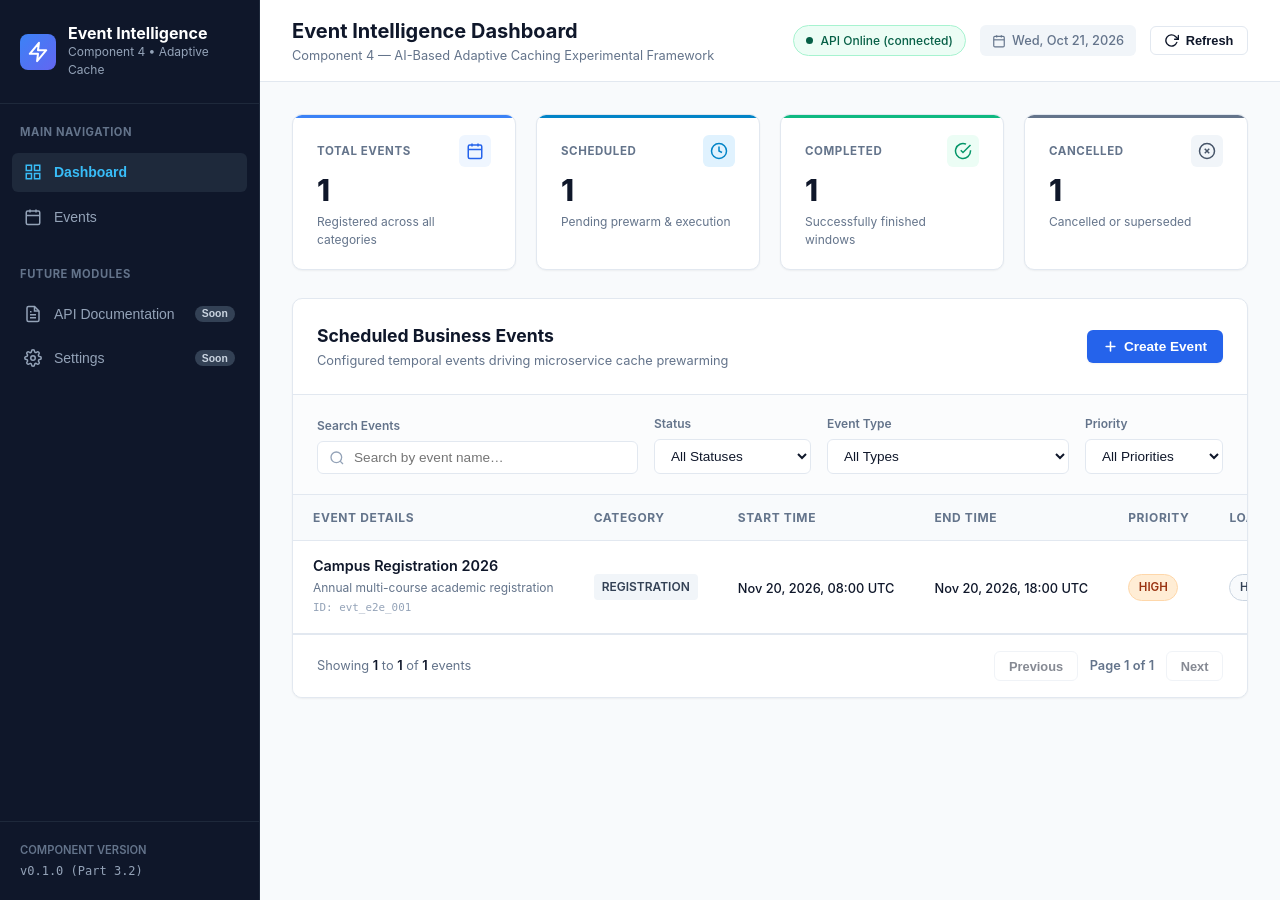
Test: Part 3.5: Frontend End-to-End Workflow & Integration Tests › Workflow: Inspection -> Delete Event -> Dismiss -> Re-open -> Confirm -> Removed from Table
// Open Details Modal
Click the button "Campus Registration 2026" at (433, 567), box 313,557 -> 554,576
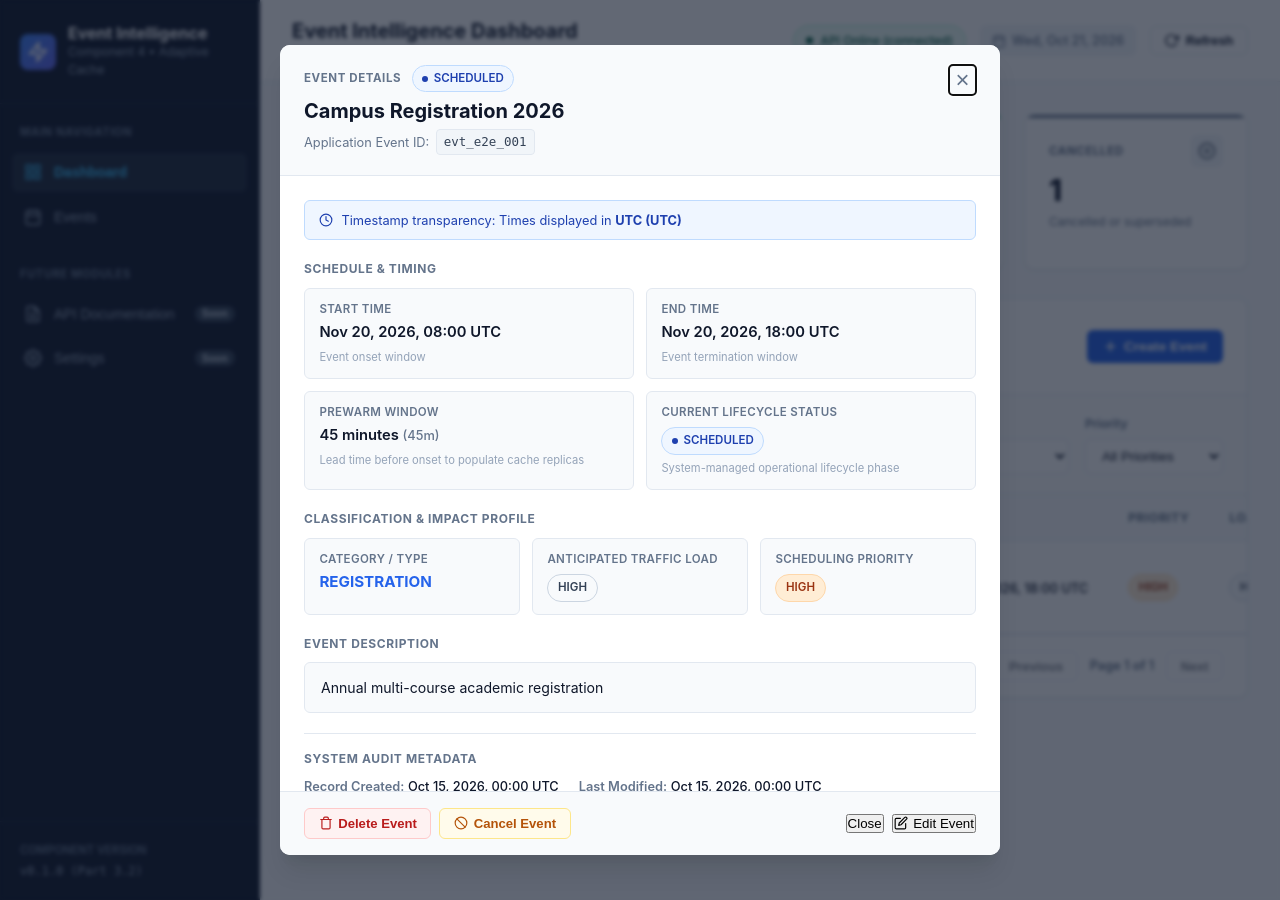
Expected: the dialog "Campus Registration 2026" is shown, 280,45 -> 1000,855
Click the button with aria-label "Delete event Campus Registration 2026" at (368, 823), box 304,808 -> 432,839
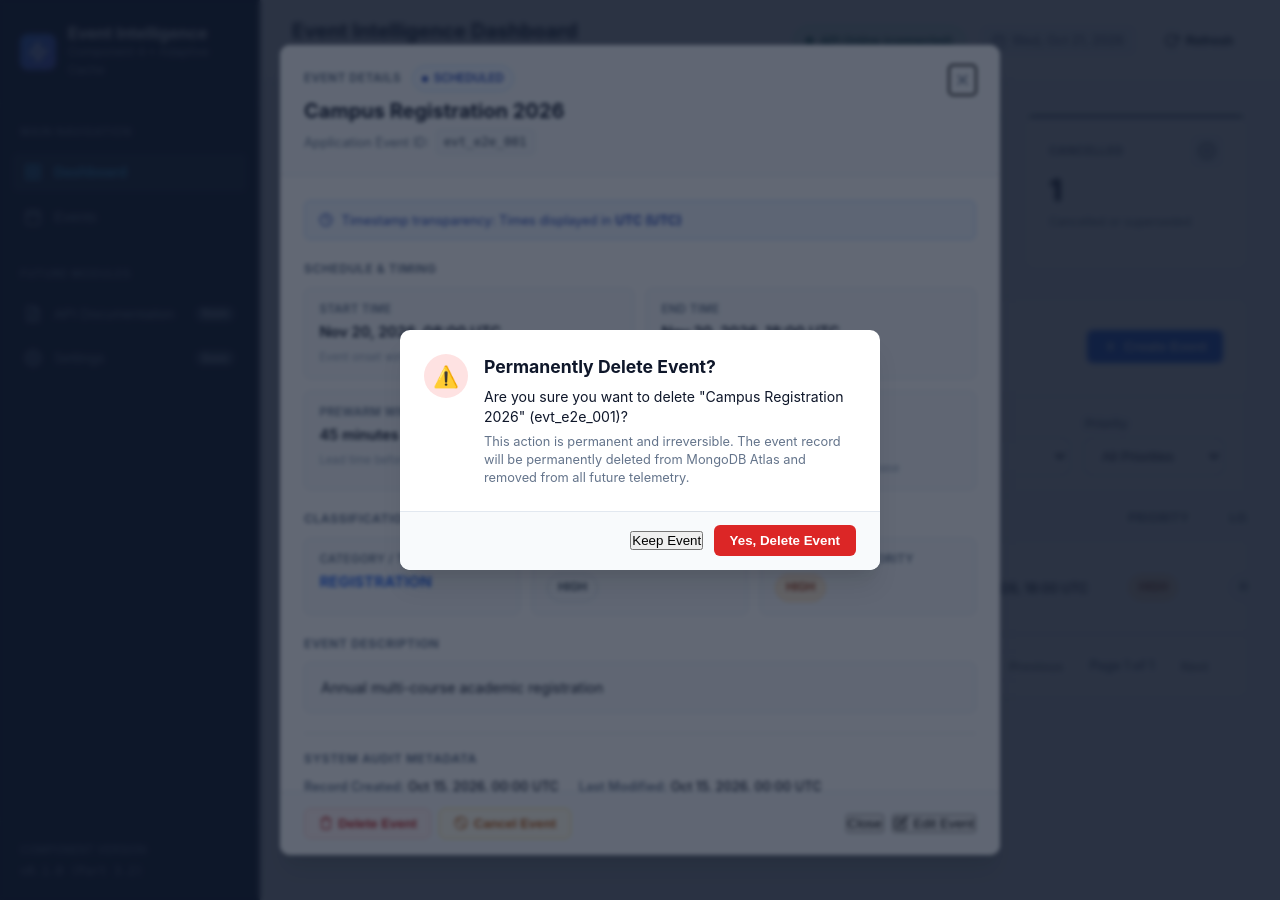
Expected: the heading "Permanently Delete Event?" is shown, 484,356 -> 716,377
// Dismiss deletion
Click the button "Keep Event" at (667, 541), box 630,531 -> 703,550
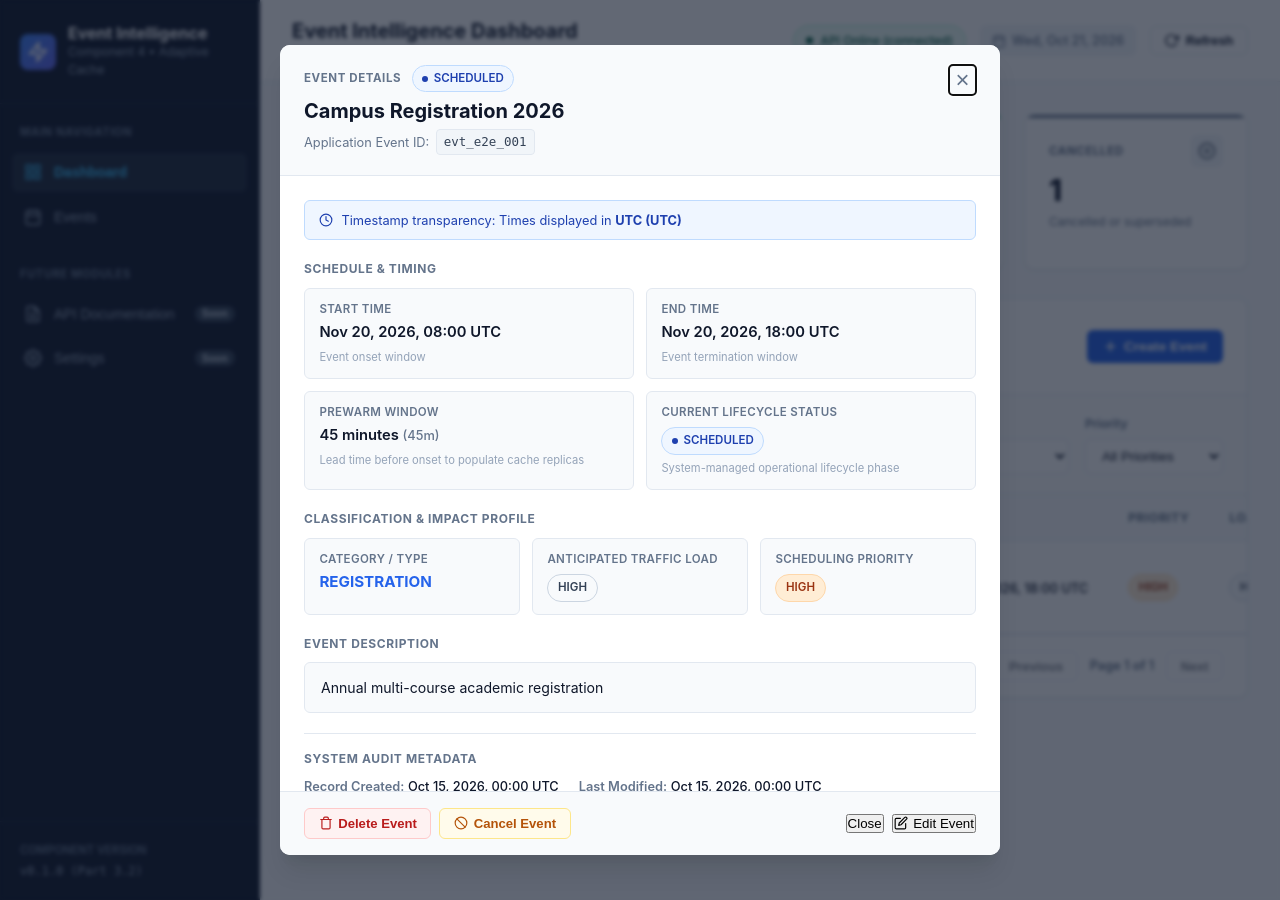
Expected: the heading "Campus Registration 2026" is shown, 304,98 -> 564,124
Expected: the heading "Permanently Delete Event?" is gone
// Click Delete Event again
Click the button with aria-label "Delete event Campus Registration 2026" at (368, 823), box 304,808 -> 432,839
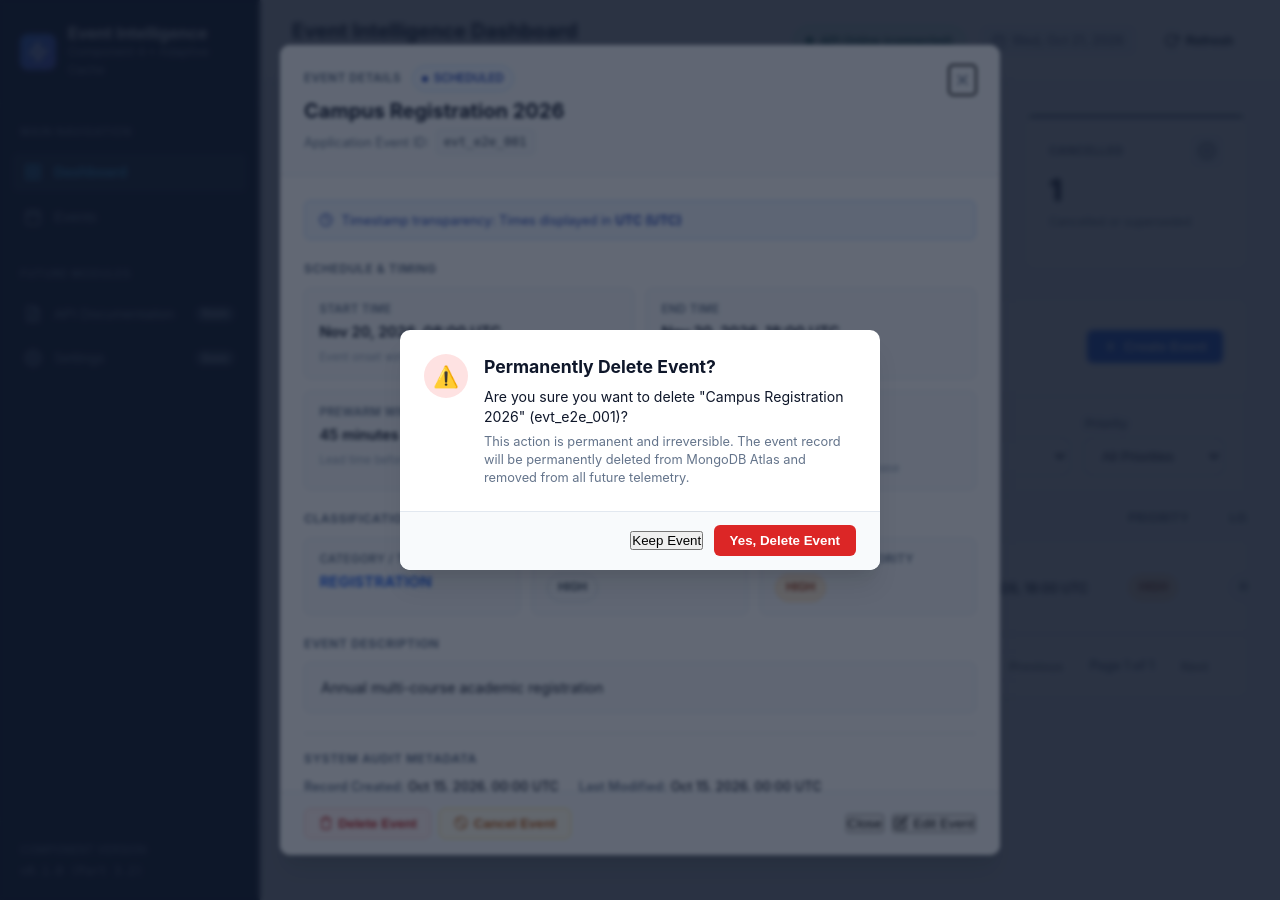
Expected: the heading "Permanently Delete Event?" is shown, 484,356 -> 716,377
// Confirm deletion
Click the button "Yes, Delete Event" at (785, 541), box 714,525 -> 856,556
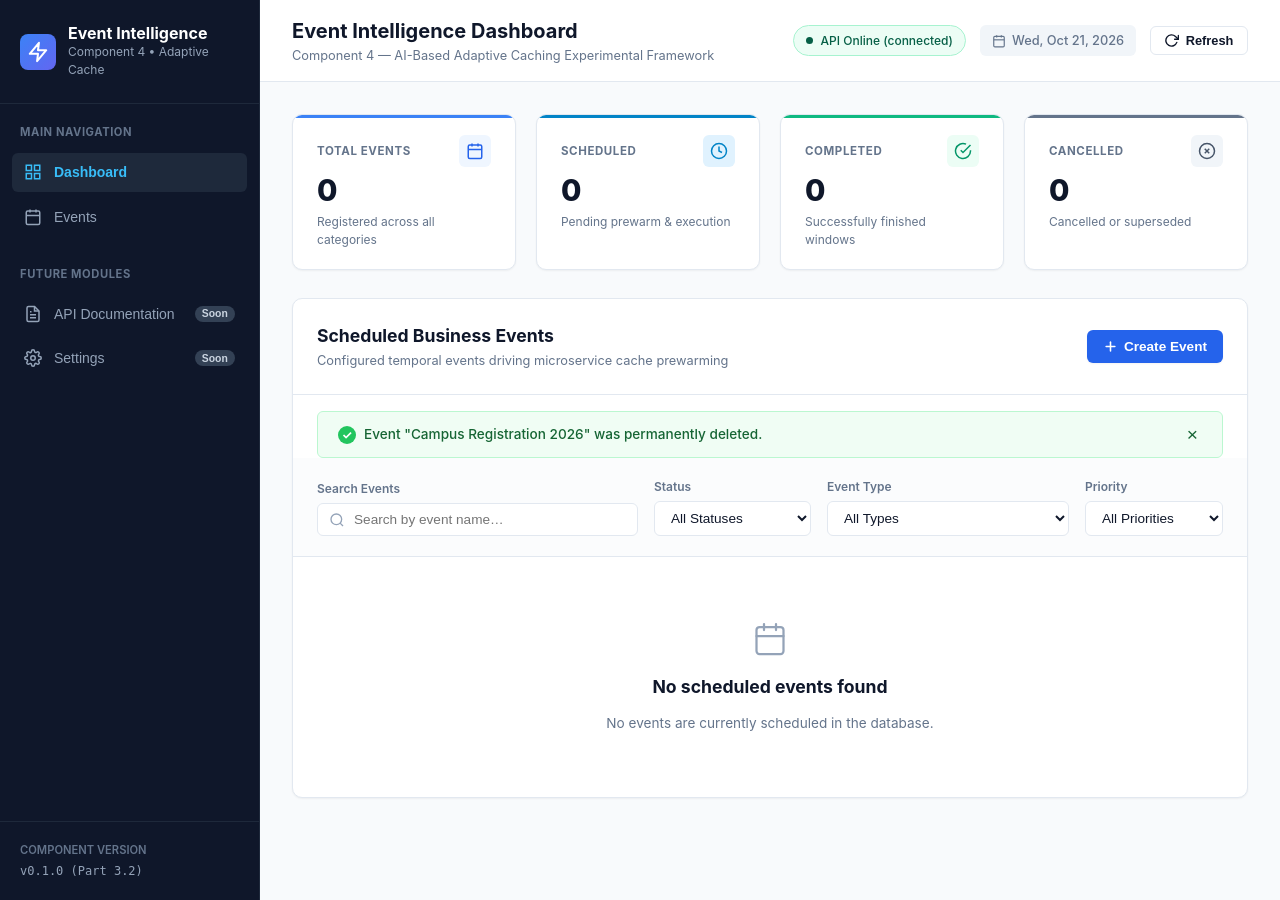
Expected: the heading "Permanently Delete Event?" is gone
Expected: the heading "No scheduled events found" is shown, 652,674 -> 888,701
